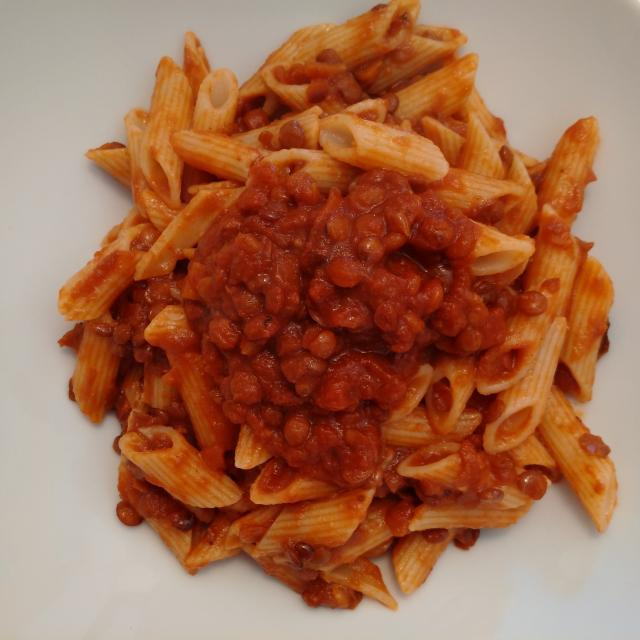Pasta al ragu: (47, 8, 632, 592)
